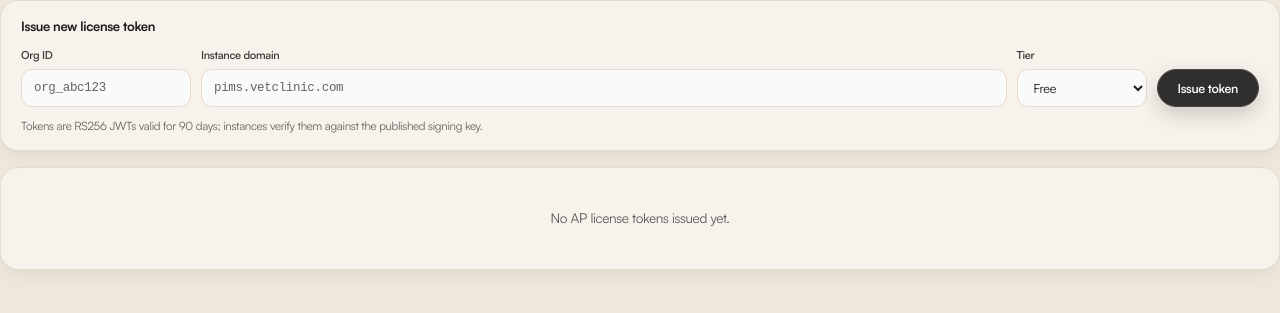
Test: InstancesTable › clears license details after issuance succeeds
The width and height of the screenshot is (1280, 313).
Type "org_done" into the field labelled "Org ID". click: (106, 88)
box: [21, 69, 191, 107]
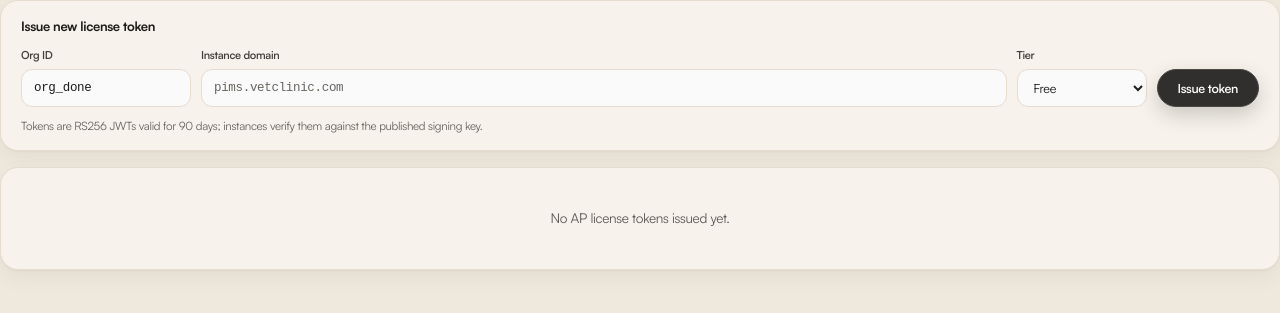
Type "done.example.com" into the field labelled "Instance domain". click: (604, 88)
box: [201, 69, 1006, 107]
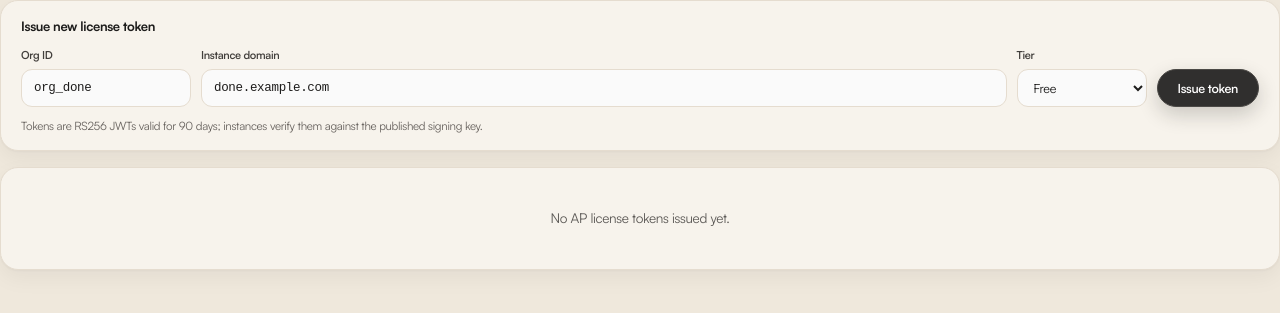
Select "Pro" in the dropdown labelled "Tier". click: (1082, 88)
box: [1016, 69, 1146, 107]
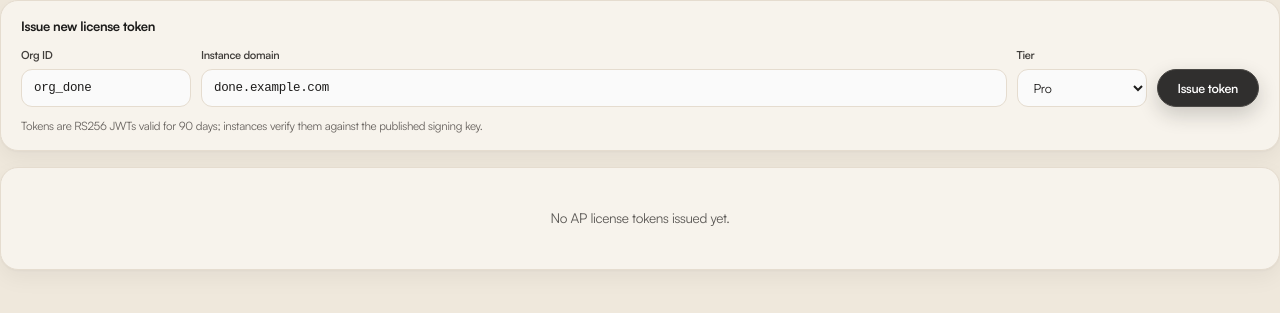
Click the button "Issue token". click: (1208, 88)
box: [1156, 69, 1259, 107]
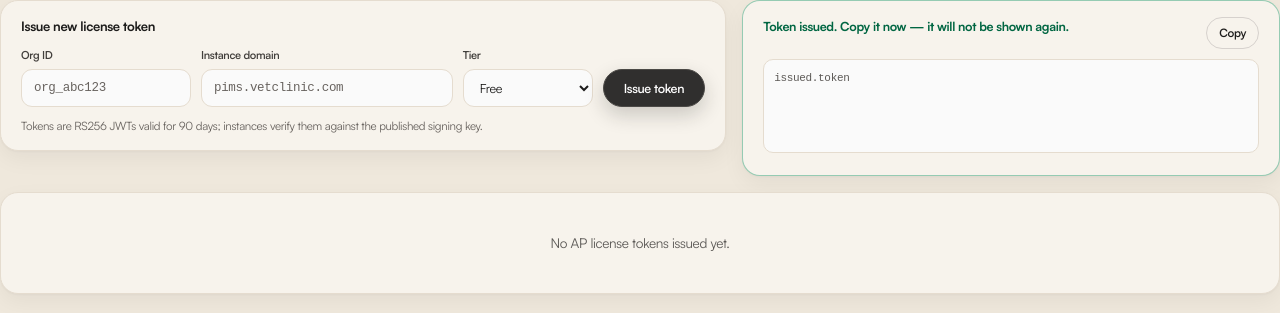
Expected: the text "Token issued. Copy it now — it will not be shown again." is shown, [763, 17, 1069, 36]
Expected: the field labelled "Org ID" is empty, [21, 69, 191, 107]
Expected: the field labelled "Instance domain" is empty, [201, 69, 453, 107]
